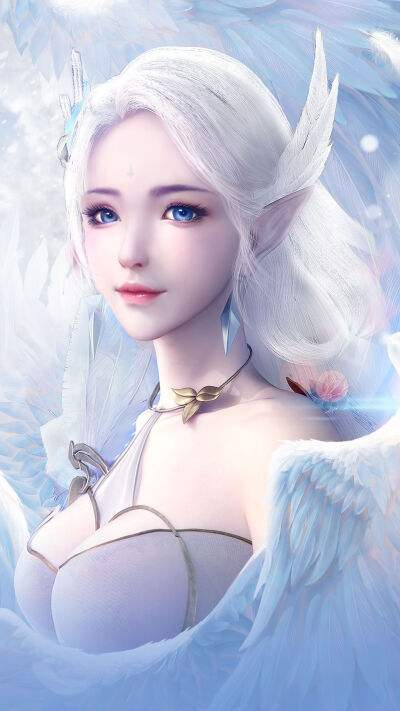person: (38, 45, 373, 604)
